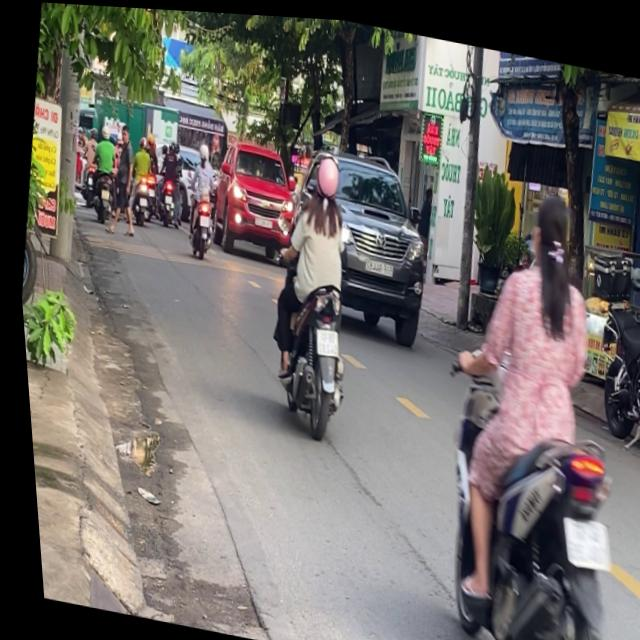helmet: (309, 151, 342, 199)
licenseplate: (392, 158, 640, 640), (242, 126, 379, 440)
motorcyclist: (525, 183, 576, 261)
nohelmet: (551, 510, 608, 565), (309, 324, 336, 354)
